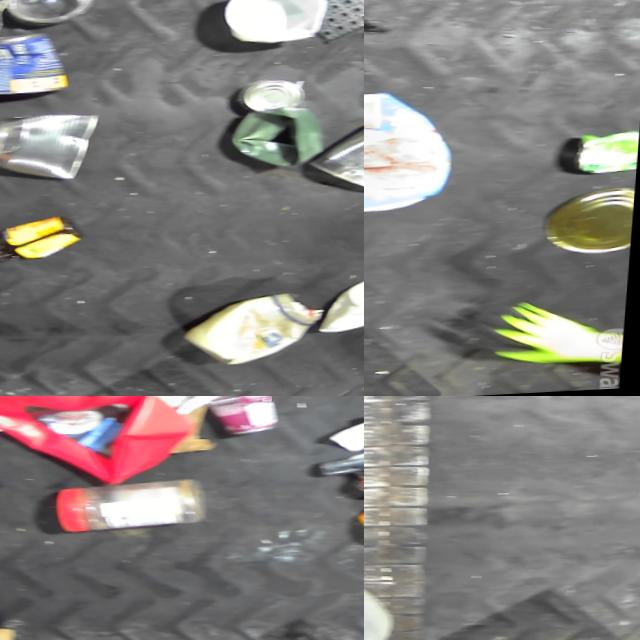can: (0, 107, 107, 184), (0, 26, 75, 111), (548, 195, 638, 261), (296, 126, 364, 205), (229, 396, 284, 429)
non_white_jug: (0, 396, 188, 490)
